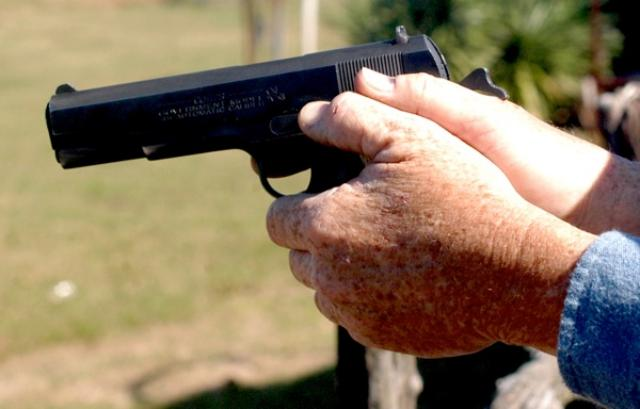handgun: (40, 22, 514, 220)
